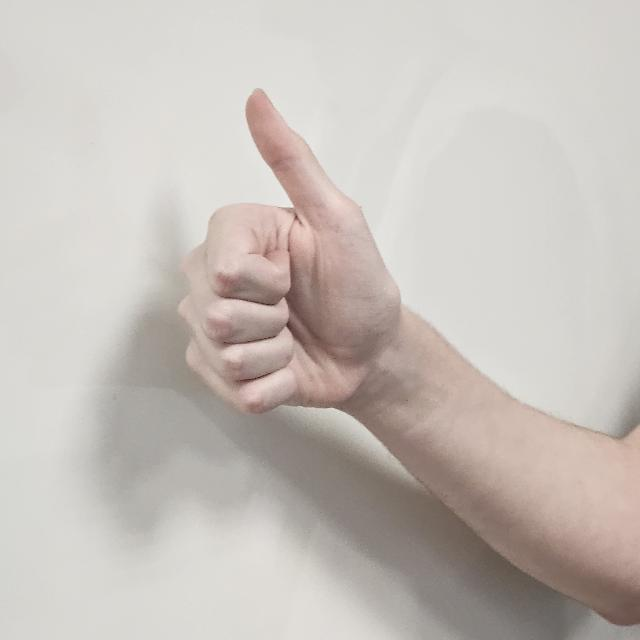Start: (173, 86, 407, 457)
